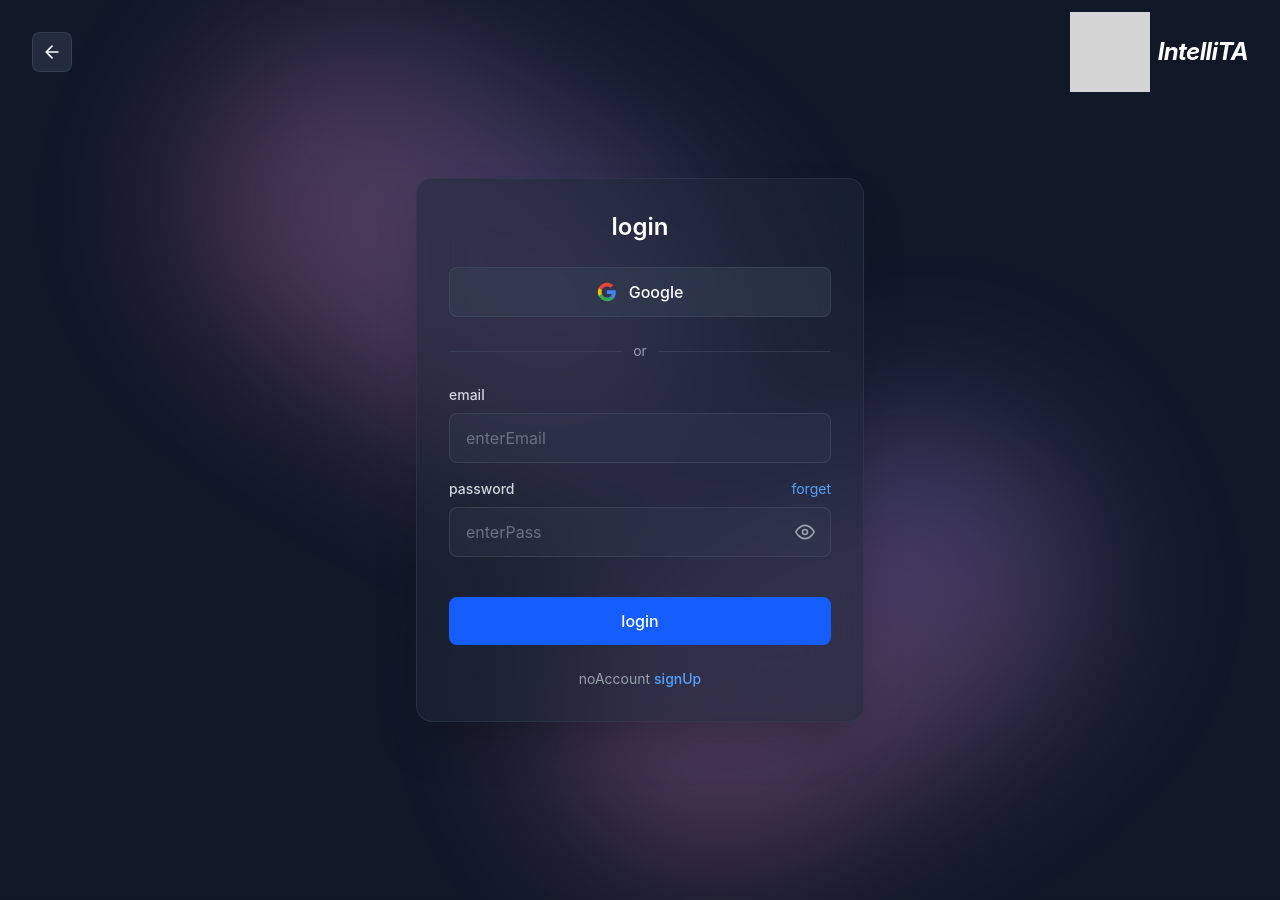
Test: Login — email/password flow › user-not-found error displays errAccountNotFound
Type "student@stu.kau.edu.sa" into the field labelled "email" at (640, 438), box [449,413,831,463]
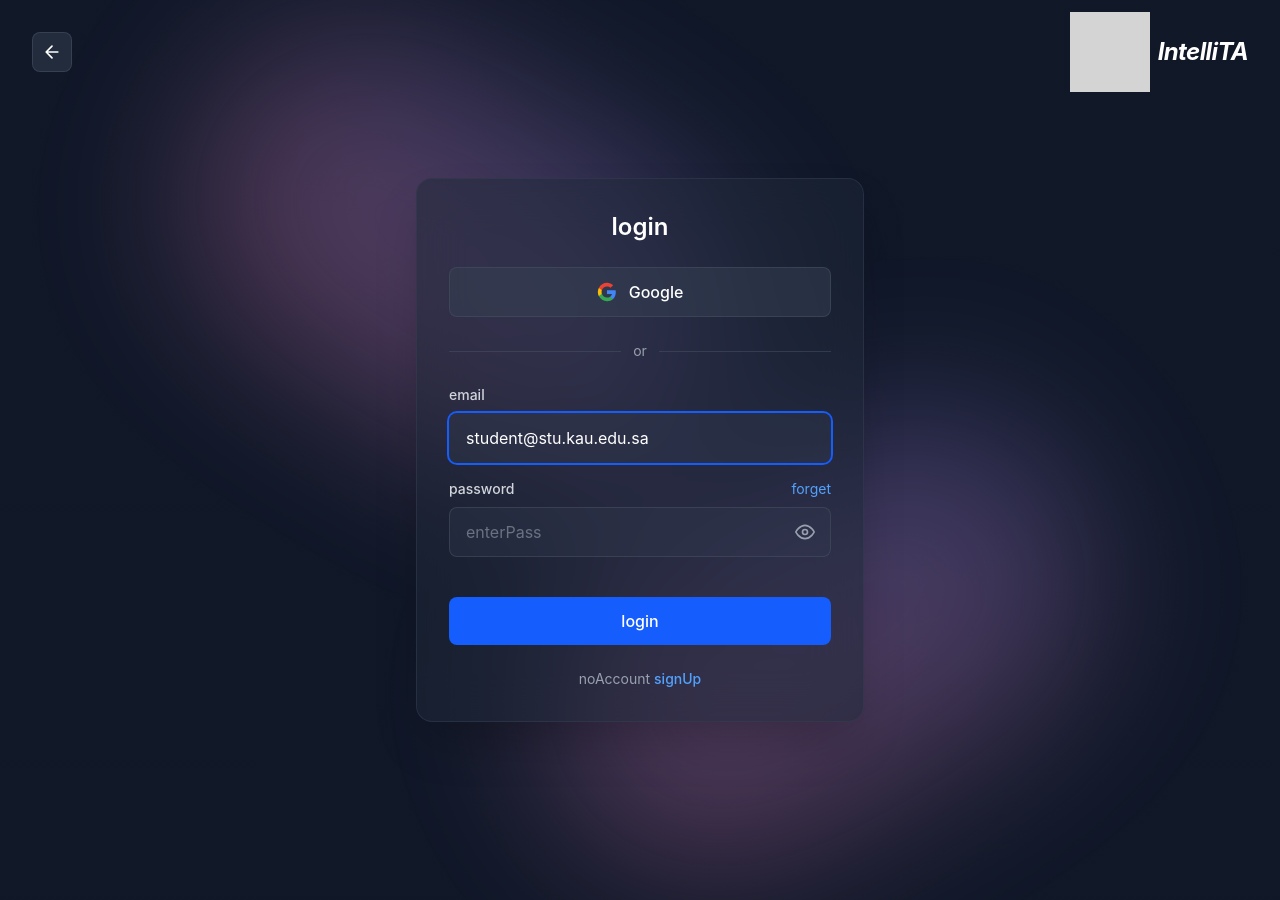
Type "password123" into the password field labelled "password" at (640, 532), box [449,507,831,557]
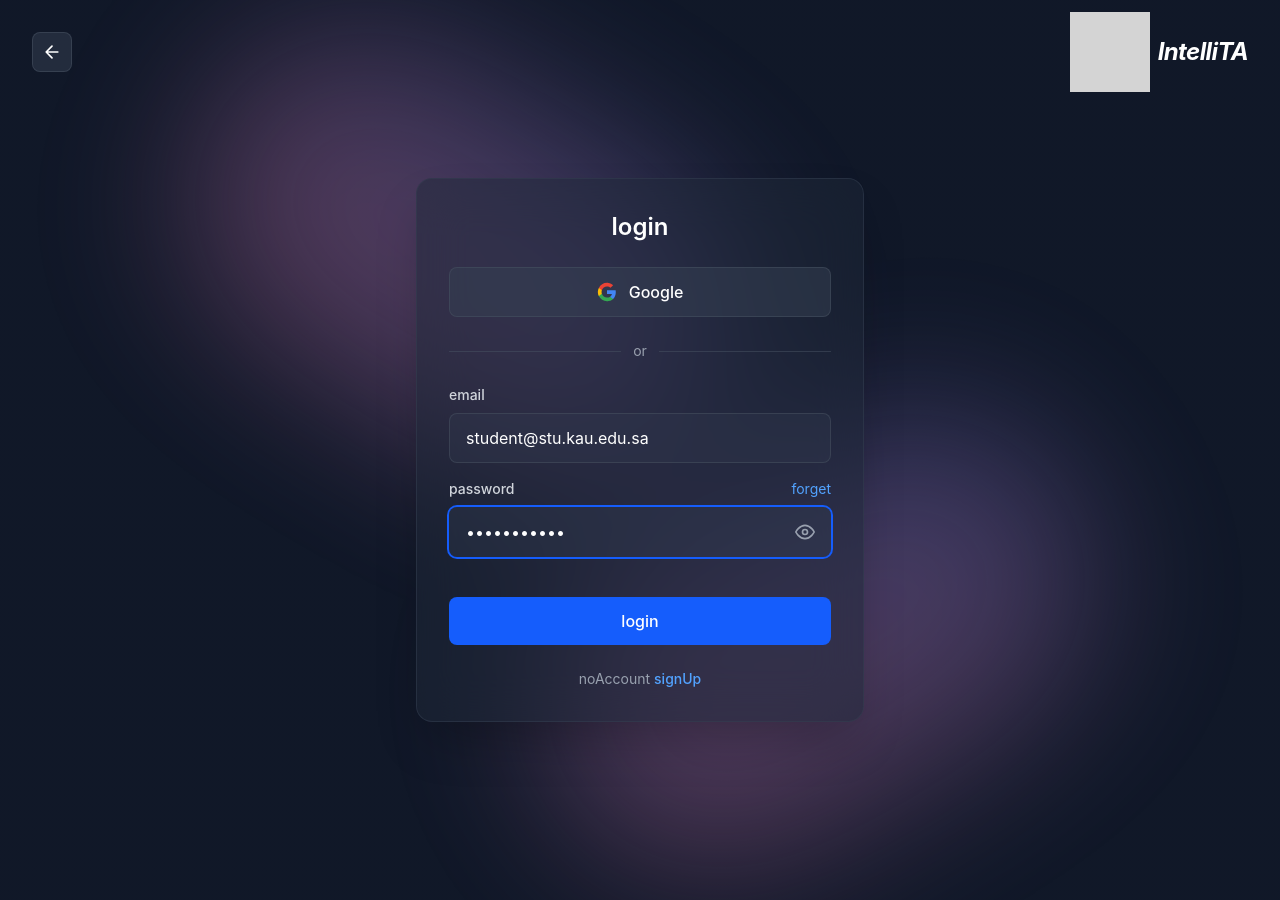
Click the submit button at (640, 621), box [449,597,831,645]
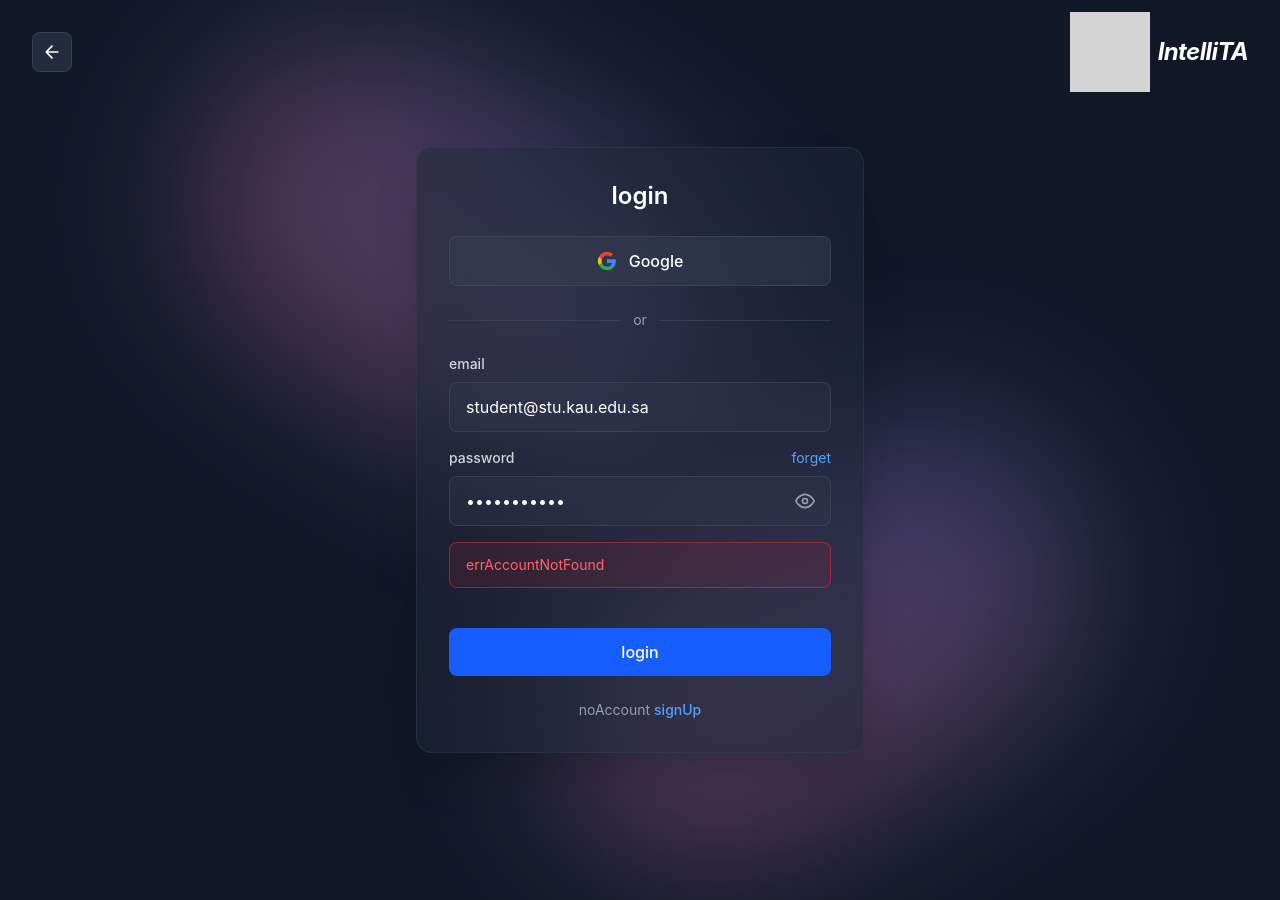
Check: the text "errAccountNotFound" is shown, box [449,542,831,588]
